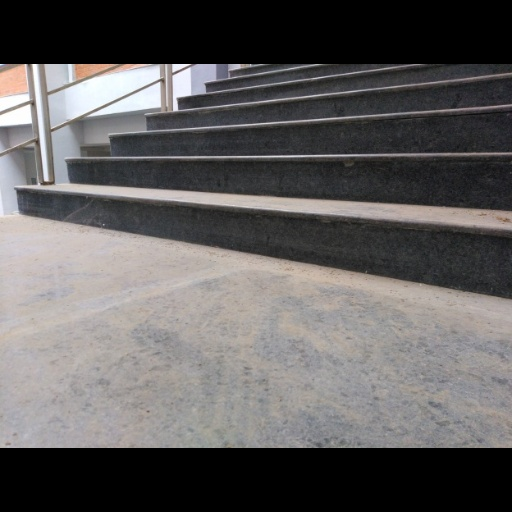Stairs: (17, 65, 512, 298)
